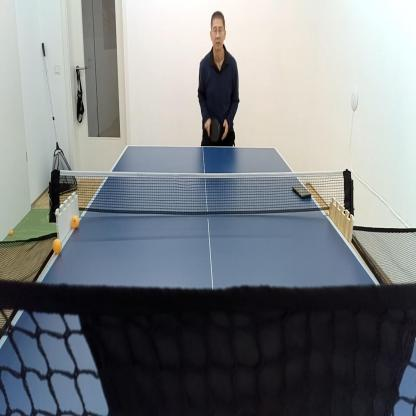Ball: (52, 237, 62, 255), (70, 215, 80, 230), (9, 228, 13, 236)
